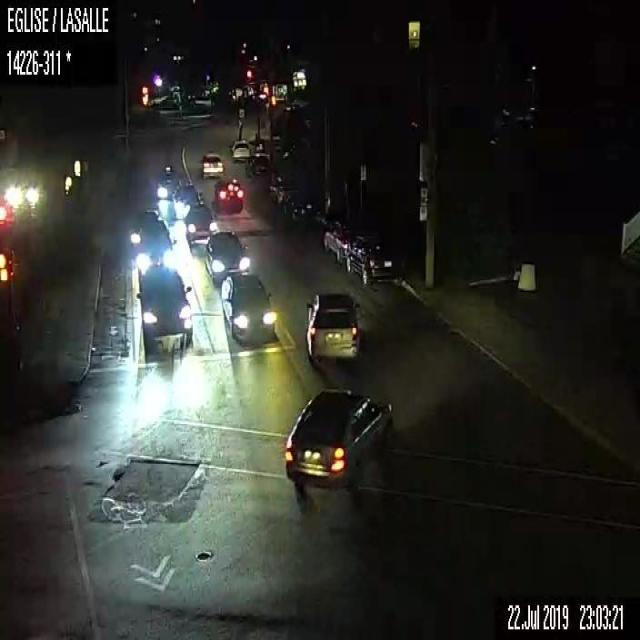vehicle: (282, 384, 393, 492), (132, 262, 194, 355), (219, 271, 279, 350), (304, 289, 362, 363), (345, 238, 403, 286), (203, 228, 249, 280), (136, 232, 178, 271), (323, 219, 357, 261), (184, 205, 216, 247), (173, 180, 201, 220), (282, 186, 312, 222), (155, 165, 186, 197), (268, 174, 298, 206), (215, 181, 244, 209), (199, 151, 221, 178), (249, 152, 271, 178), (232, 137, 250, 160)
